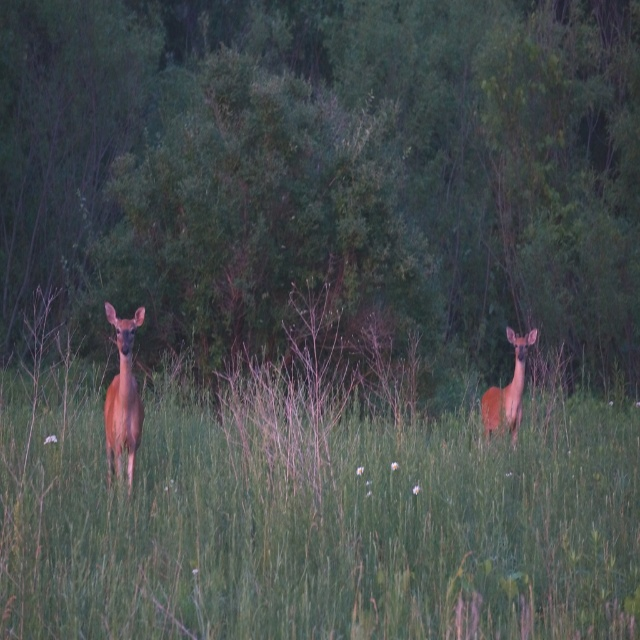Deer: (104, 301, 145, 497), (481, 326, 537, 450)
